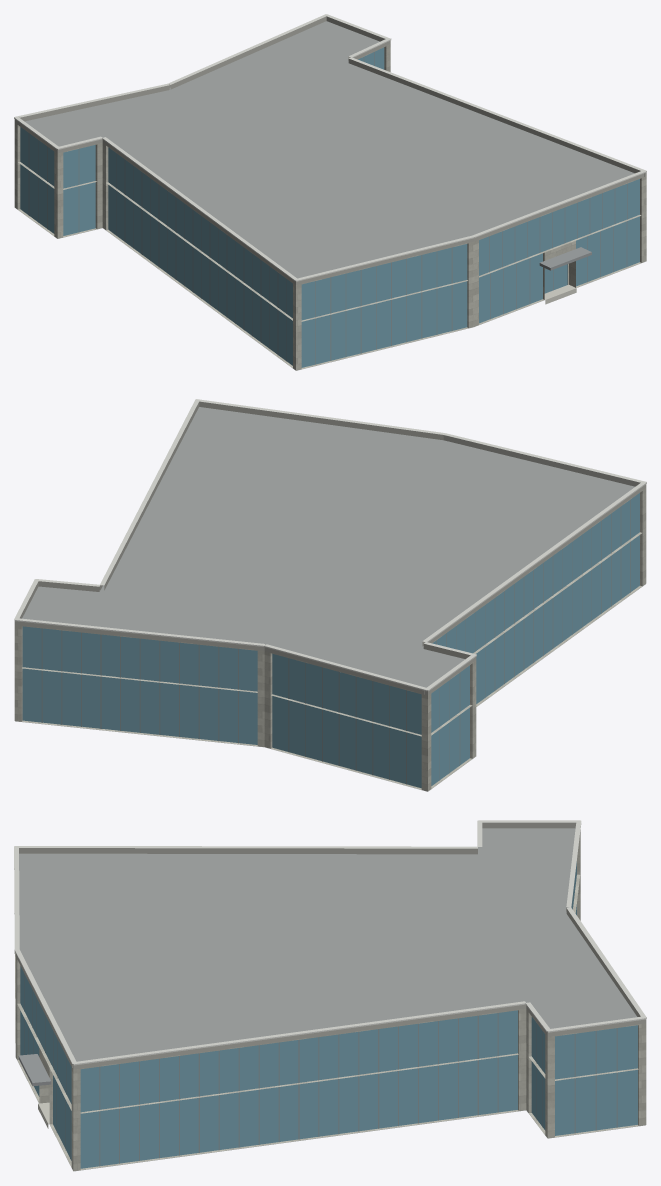
3 views of the same model, one above another, from view 1: azimuth 30°, elevation 25°; view 2: azimuth 150°, elevation 25°; view 3: azimuth 270°, elevation 25° (orthographic). The views are drawn at different scales.
Visible parts, largest first — view 1: unist-batch-osm480637370__parapet, osm480637370__glass, osm480637370__wall, osm480637370__frame, osm480637370__trim, osm480637370__canopy; view 2: unist-batch-osm480637370__parapet, osm480637370__glass, osm480637370__wall, osm480637370__trim, osm480637370__frame; view 3: unist-batch-osm480637370__parapet, osm480637370__glass, osm480637370__wall, osm480637370__trim, osm480637370__frame, osm480637370__canopy.
Boxes of the visible parts, box(x1,y1,x2,y2) form: unist-batch-osm480637370__parapet: box(14, 16, 646, 370); osm480637370__glass: box(20, 47, 639, 367); osm480637370__wall: box(14, 44, 646, 370); osm480637370__frame: box(28, 52, 627, 364); osm480637370__trim: box(14, 14, 646, 281); osm480637370__canopy: box(539, 247, 591, 270); unist-batch-osm480637370__parapet: box(14, 401, 646, 791); osm480637370__glass: box(22, 493, 639, 788); osm480637370__wall: box(14, 488, 646, 791); osm480637370__trim: box(14, 399, 646, 691); osm480637370__frame: box(41, 499, 630, 784); unist-batch-osm480637370__parapet: box(15, 822, 646, 1171); osm480637370__glass: box(20, 862, 637, 1168); osm480637370__wall: box(14, 830, 646, 1171); osm480637370__trim: box(14, 820, 646, 1065); osm480637370__frame: box(24, 973, 617, 1166); osm480637370__canopy: box(18, 1054, 51, 1086).
Size of the model in its own units: 41.68 by 8.95 by 45.72.
Materials: 7 (1 with a texture image).
